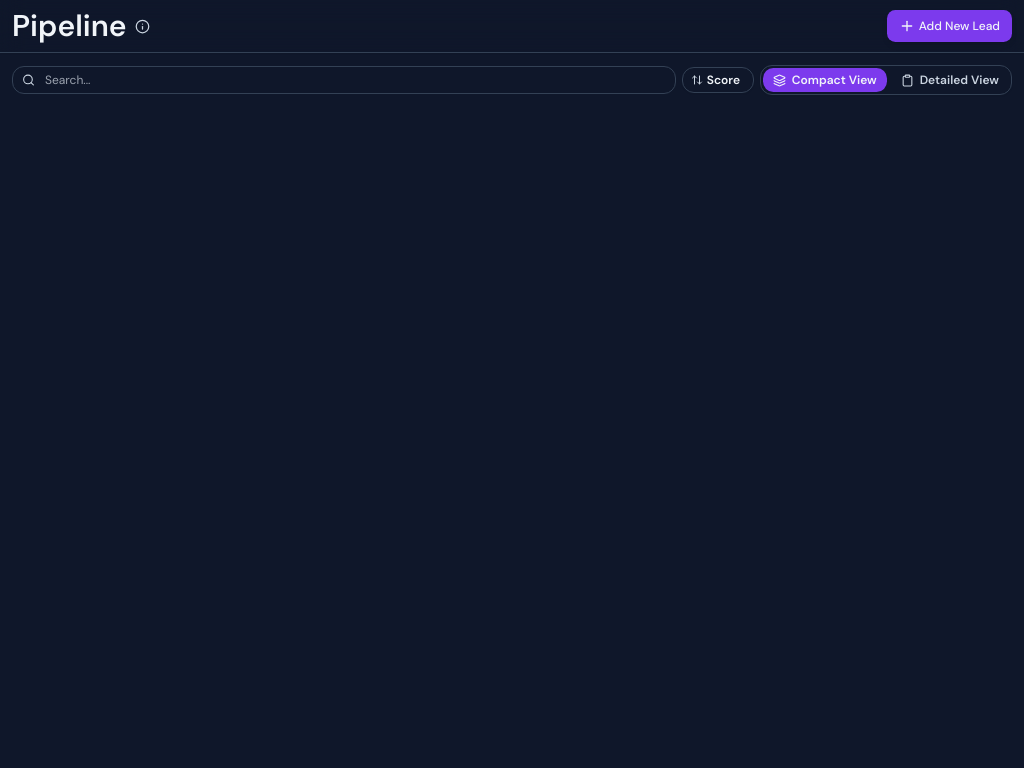
Test case: CRMPipeline › opens add lead modal
What coordinates should you click on to do the following:
click the text "Add New Lead"
I would click on:
 (959, 26)
Its box is [919,18,1000,34].
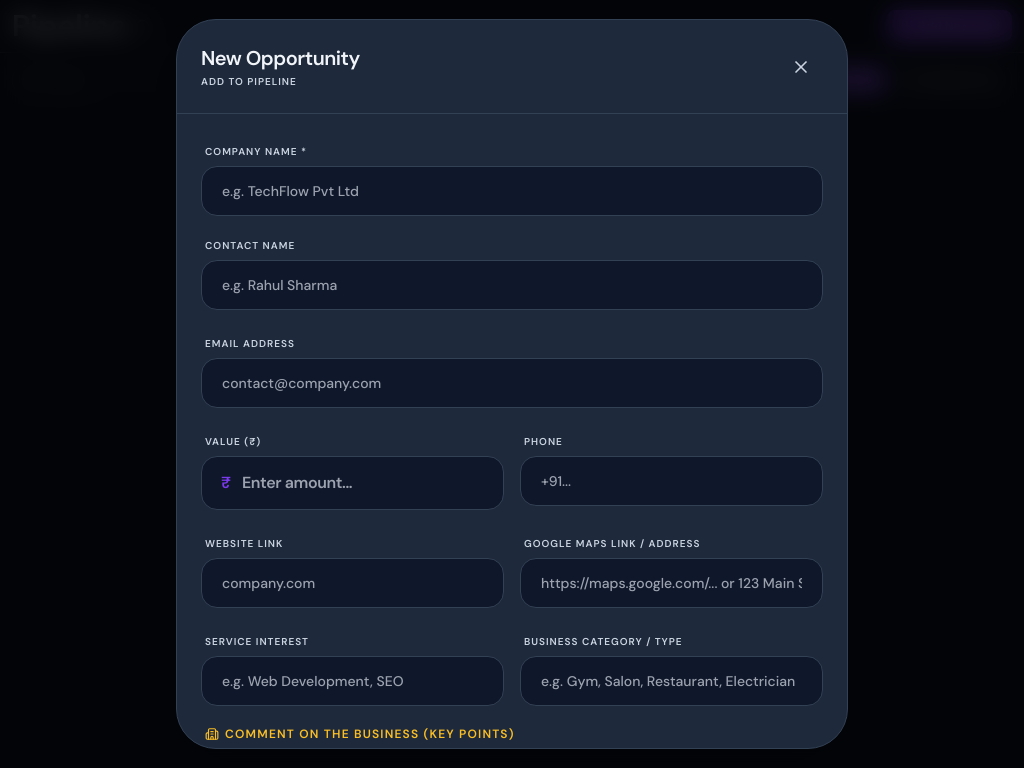
Check: the heading "New Opportunity" is shown, box [201,44,360,72]
